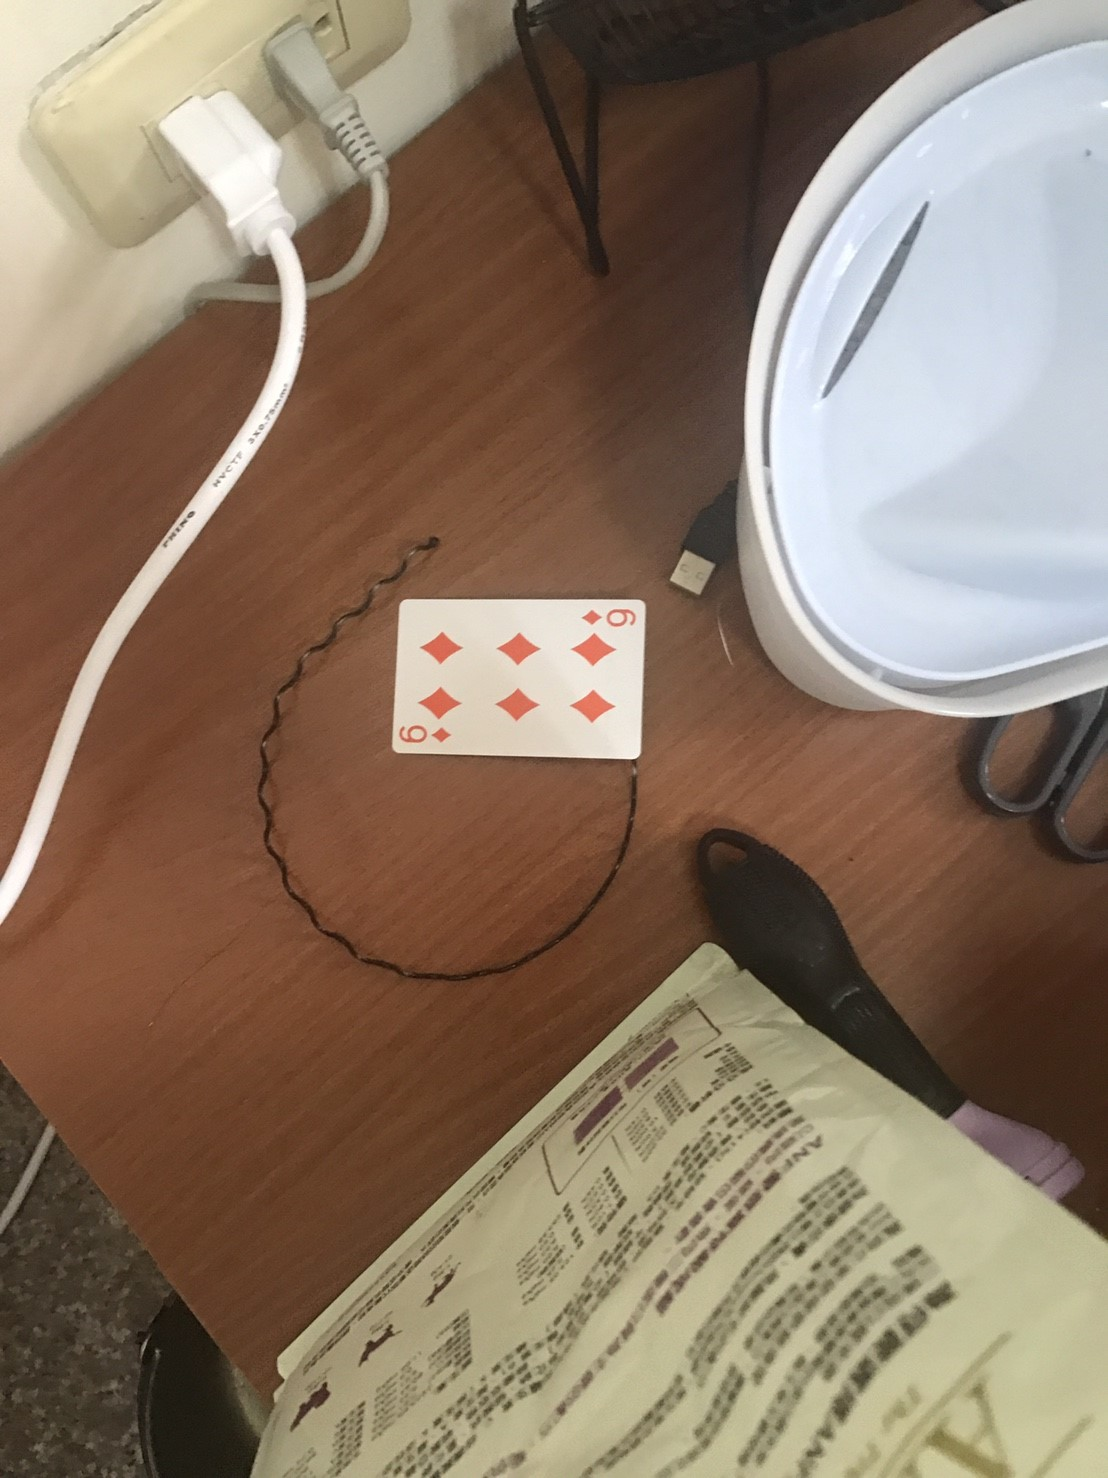diamonds: (567, 688, 624, 726), (496, 624, 544, 668), (416, 630, 462, 668), (496, 683, 538, 724), (416, 688, 466, 722), (575, 633, 622, 666), (582, 607, 601, 628), (432, 726, 448, 747)
